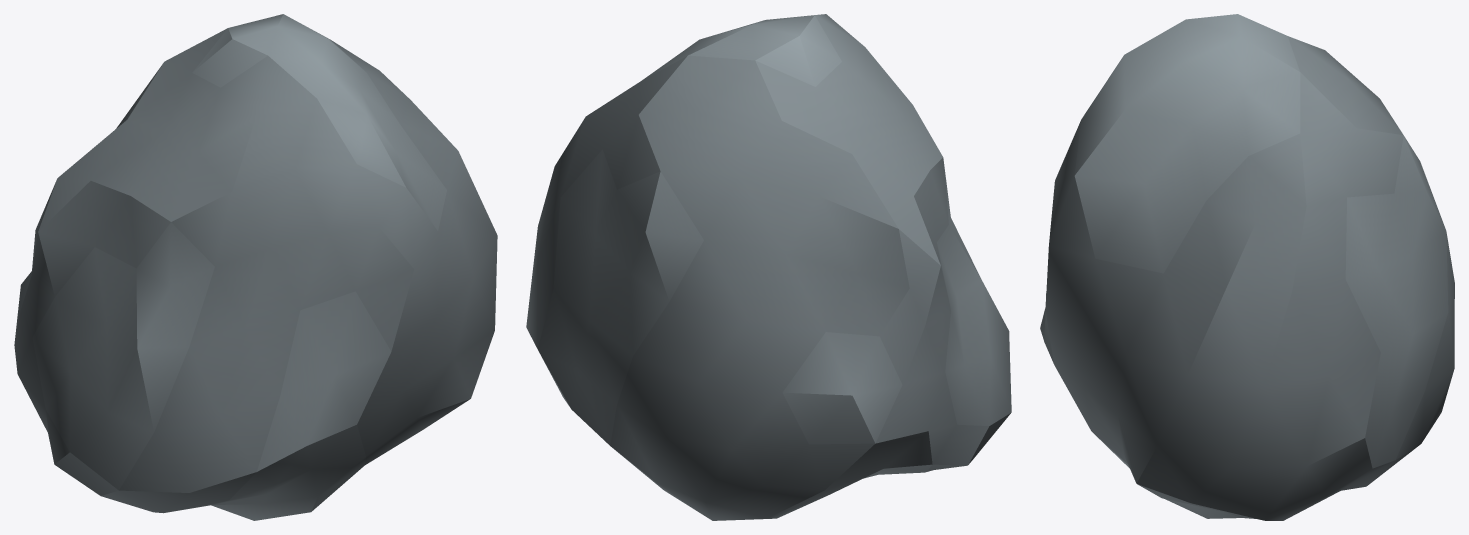
The model's file is Rock_3_M_Color1.glb.
3 renders of one model, left to right at view 1: azimuth 30°, elevation 25°; view 2: azimuth 150°, elevation 25°; view 3: azimuth 270°, elevation 25°, orthographic. The views are drawn at different scales.
Parts seen in each view (by area): view 1: Rock_3_M_Color1; view 2: Rock_3_M_Color1; view 3: Rock_3_M_Color1.
Boxes of the visible parts, x1,y1,x2,y2 form: Rock_3_M_Color1: (14, 14, 497, 520); Rock_3_M_Color1: (526, 14, 1011, 520); Rock_3_M_Color1: (1040, 14, 1454, 520).
Bounding box in the file's own units: 3.43 × 3.6 × 2.81.
Materials: 1 (1 with a texture image).
